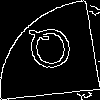Q: (25, 25, 76, 78)
